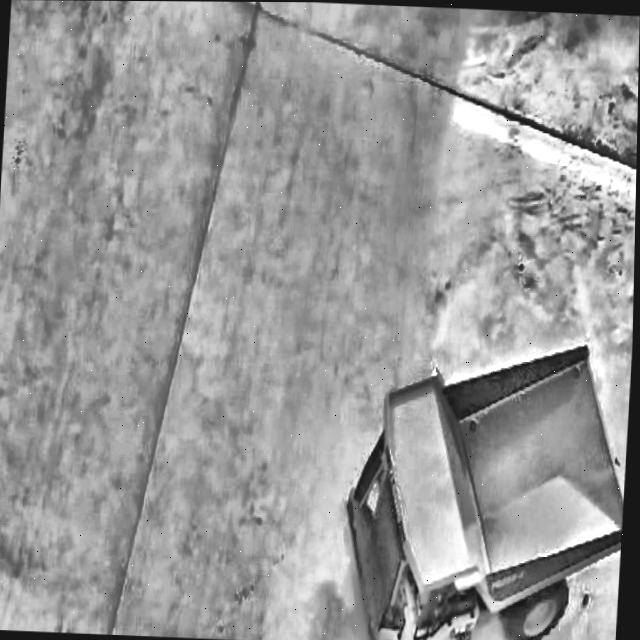dump_truck: (326, 330, 633, 640)
